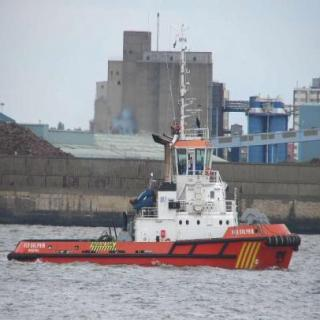Tug Boat: (3, 26, 304, 267)
